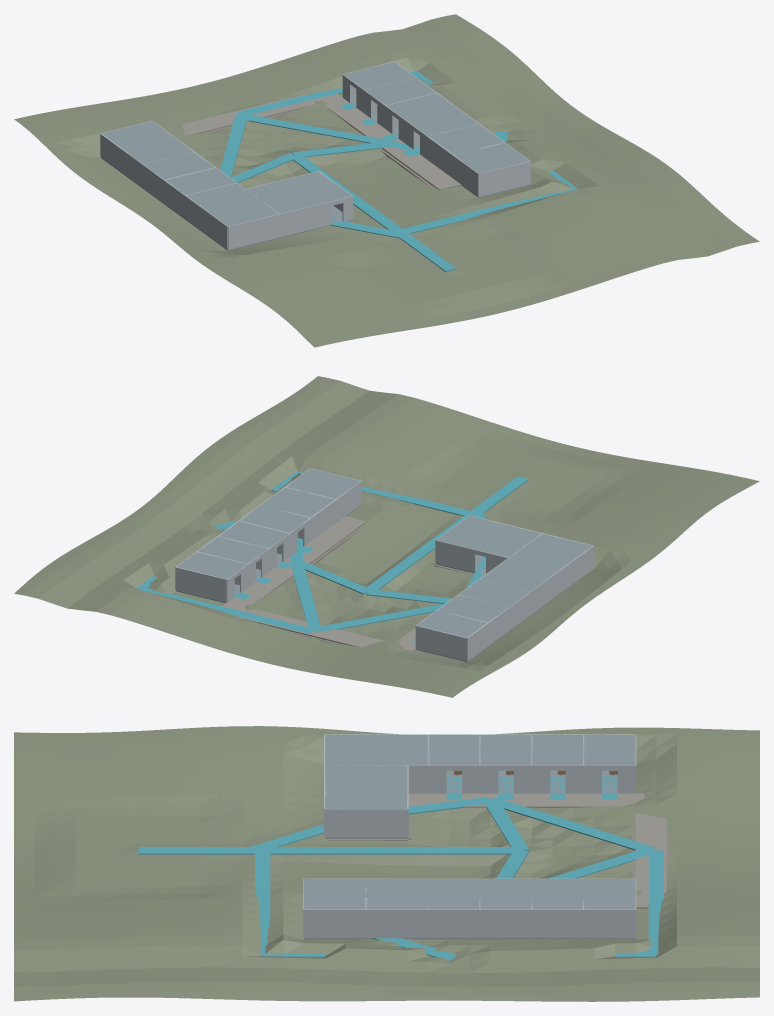
File: deck-terrain.glb
3 views of the same model, one above another, from view 1: azimuth 30°, elevation 25°; view 2: azimuth 150°, elevation 25°; view 3: azimuth 270°, elevation 25° (orthographic). The views are drawn at different scales.
Visible parts, largest first — view 1: Authored roadside terrain, Ceiling cap office, Ceiling cap manager, Ceiling cap plant, Ceiling cap laundry, Wall office S, Wall plant S, Wall manager S, Ceiling cap room5, Ceiling cap room1, Ceiling cap room2, Ceiling cap room6 (+15 smaller); view 2: Authored roadside terrain, Ceiling cap office, Ceiling cap manager, Ceiling cap plant, Ceiling cap laundry, Wall room5 N, Wall room1 N, Ceiling cap room4, Ceiling cap room3, Ceiling cap room2, Ceiling cap room5, Ceiling cap room1 (+16 smaller); view 3: Authored roadside terrain, Ceiling cap office, Ceiling cap manager, Wall office E, route-03 support 0, Ceiling cap laundry, Ceiling cap plant, Wall laundry E, Wall plant E, Ceiling cap room8, Ceiling cap room3, Ceiling cap room1 (+32 smaller).
Part boxes in pixels (bbox=[...]): Authored roadside terrain: bbox=[14, 14, 759, 347]; Ceiling cap office: bbox=[246, 171, 352, 213]; Ceiling cap manager: bbox=[186, 183, 278, 226]; Ceiling cap plant: bbox=[454, 143, 529, 173]; Ceiling cap laundry: bbox=[428, 124, 503, 154]; Wall office S: bbox=[279, 201, 332, 237]; Wall plant S: bbox=[478, 161, 530, 196]; Wall manager S: bbox=[228, 214, 279, 249]; Ceiling cap room5: bbox=[343, 62, 415, 89]; Ceiling cap room1: bbox=[102, 121, 172, 148]; Ceiling cap room2: bbox=[123, 136, 193, 164]; Ceiling cap room6: bbox=[365, 77, 435, 105]; Authored roadside terrain: bbox=[14, 376, 759, 697]; Ceiling cap office: bbox=[436, 515, 541, 557]; Ceiling cap manager: bbox=[501, 534, 592, 576]; Ceiling cap plant: bbox=[286, 468, 360, 498]; Ceiling cap laundry: bbox=[260, 487, 334, 517]; Wall room5 N: bbox=[175, 567, 226, 602]; Wall room1 N: bbox=[416, 625, 467, 661]; Ceiling cap room4: bbox=[480, 564, 550, 591]; Ceiling cap room3: bbox=[459, 579, 529, 607]; Ceiling cap room2: bbox=[438, 595, 508, 622]; Ceiling cap room5: bbox=[176, 552, 246, 579]; Ceiling cap room1: bbox=[416, 610, 486, 637]; Authored roadside terrain: bbox=[14, 726, 759, 1001]; Ceiling cap office: bbox=[325, 765, 407, 808]; Ceiling cap manager: bbox=[325, 734, 428, 765]; Wall office E: bbox=[325, 808, 407, 837]; route-03 support 0: bbox=[252, 847, 521, 854]; Ceiling cap laundry: bbox=[366, 879, 428, 909]; Ceiling cap plant: bbox=[304, 879, 366, 909]; Wall laundry E: bbox=[366, 909, 428, 938]; Wall plant E: bbox=[304, 909, 366, 938]; Ceiling cap room8: bbox=[428, 879, 480, 909]; Ceiling cap room3: bbox=[480, 734, 531, 765]; Ceiling cap room1: bbox=[584, 734, 635, 765].
Bounding box in the file's own units: 61.8 × 3.76 × 72.
19 materials, 12 textured.
